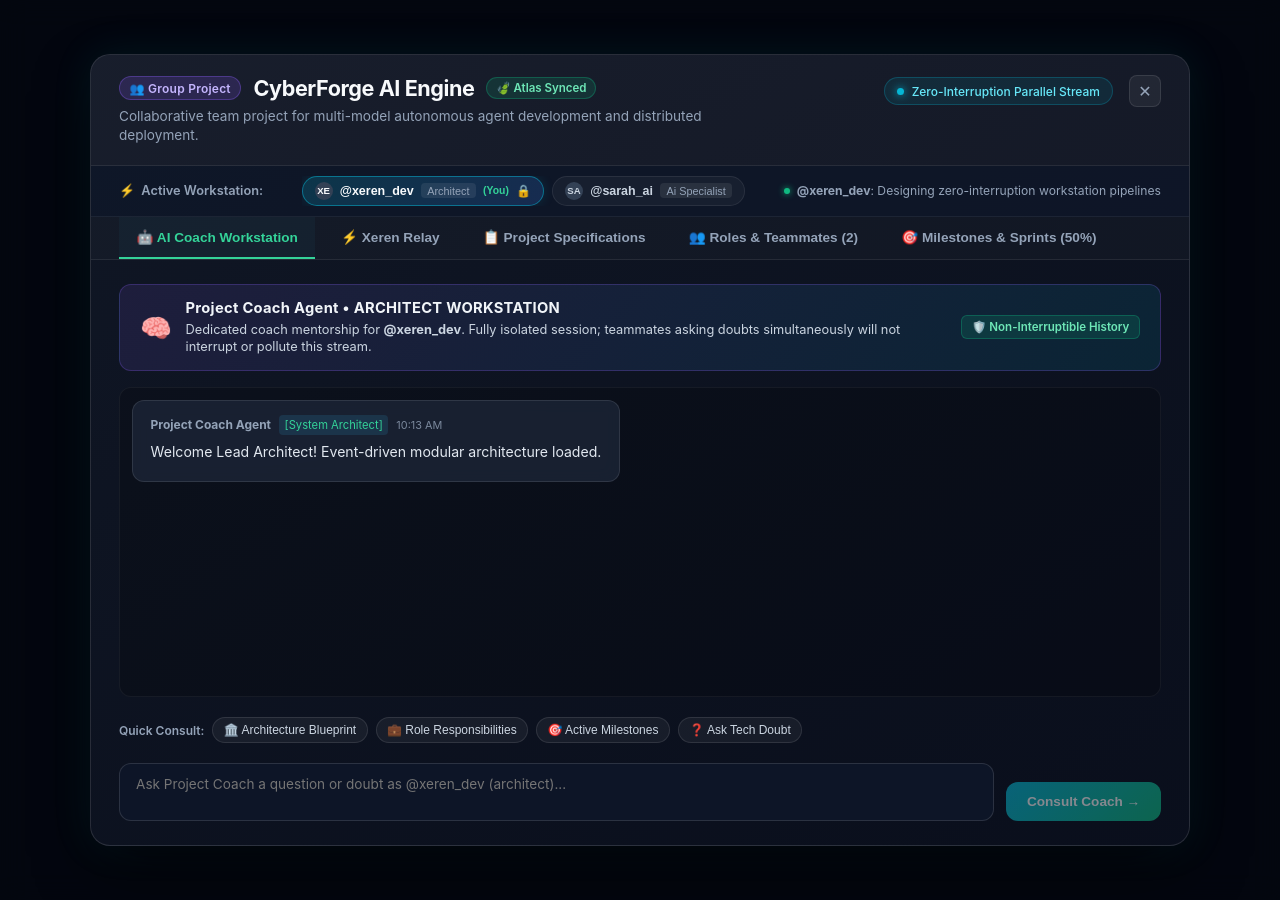
Test: Project Workspace, Dedicated AI Coach, and Workstation Isolation › interacts with AI Coach Agent in isolated workstation stream
Expected: the text "Event-driven modular architecture loaded" is shown, [151,443,601,460]
// Input question
Replace the text in the text box with placeholder "Ask Project Coach a question or doubt" with "How should I structure the WebSocket event bus?" at [557, 792], box [119,763,994,821]
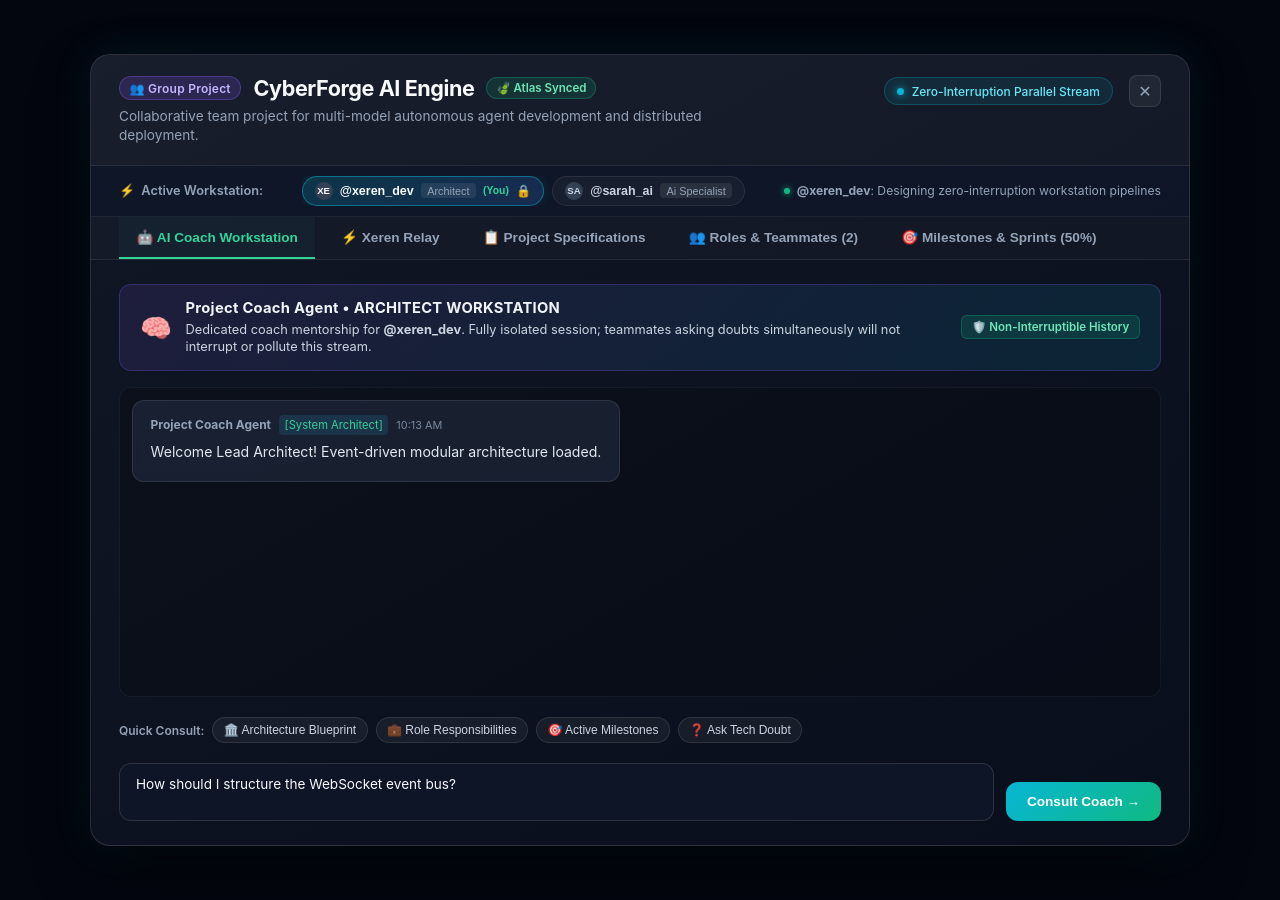
Click the button "Consult Coach →" at [1084, 802], box [1006,782,1161,821]
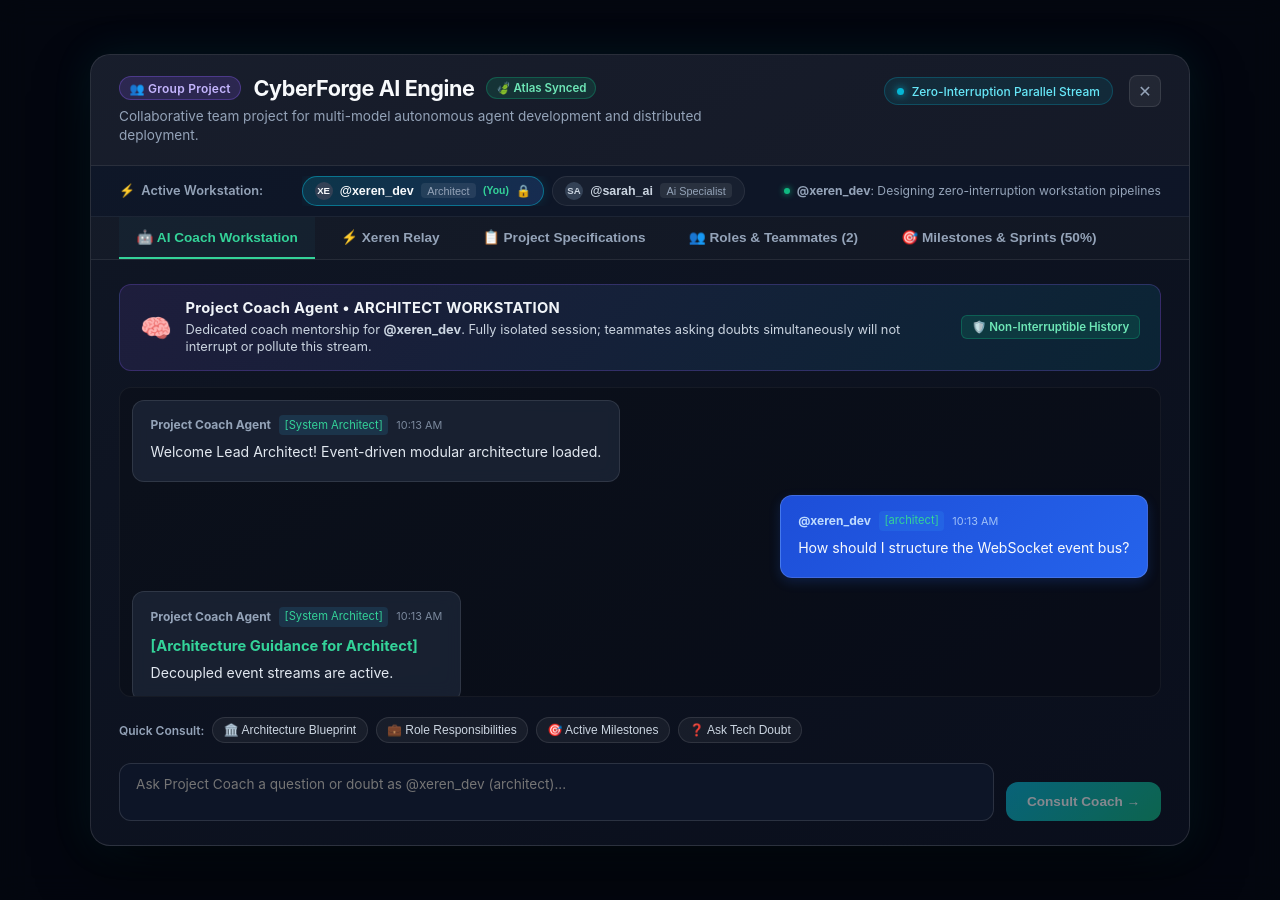
Expected: the text "How should I structure the WebSocket event bus?" is shown, [798,537,1129,558]
Expected: the text "Decoupled event streams are active." is shown, [151,664,393,680]
